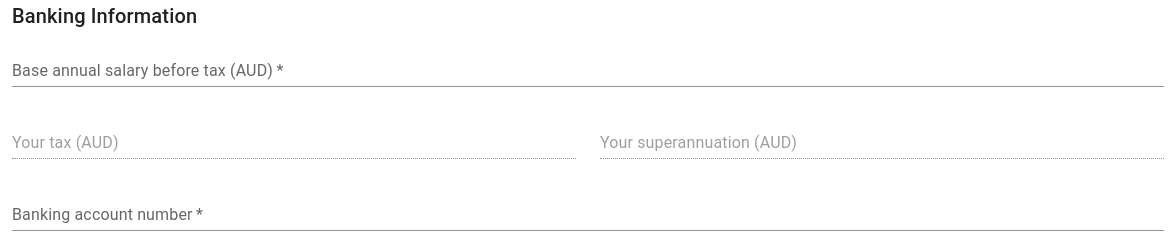
Calculation › When salary is 1000
This screenshot has width=1176, height=248.
Type "1000" into the number field with test id "salary-input" at point(588, 71), box [12,55,1164,87]
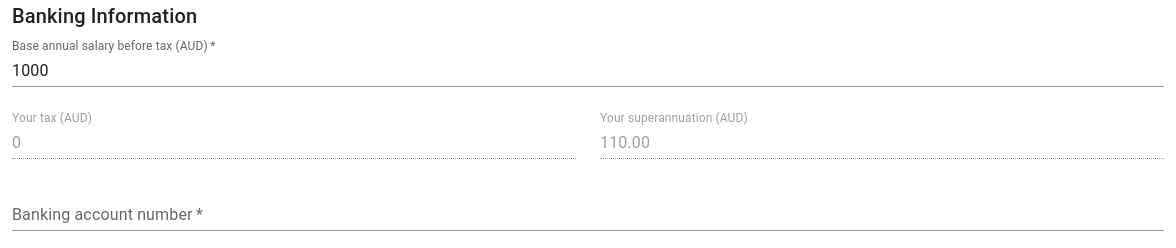
Expected: the field with test id "tax" holds "0", [12,127,576,159]
Expected: the field with test id "super" holds "110.00", [600,127,1164,159]
